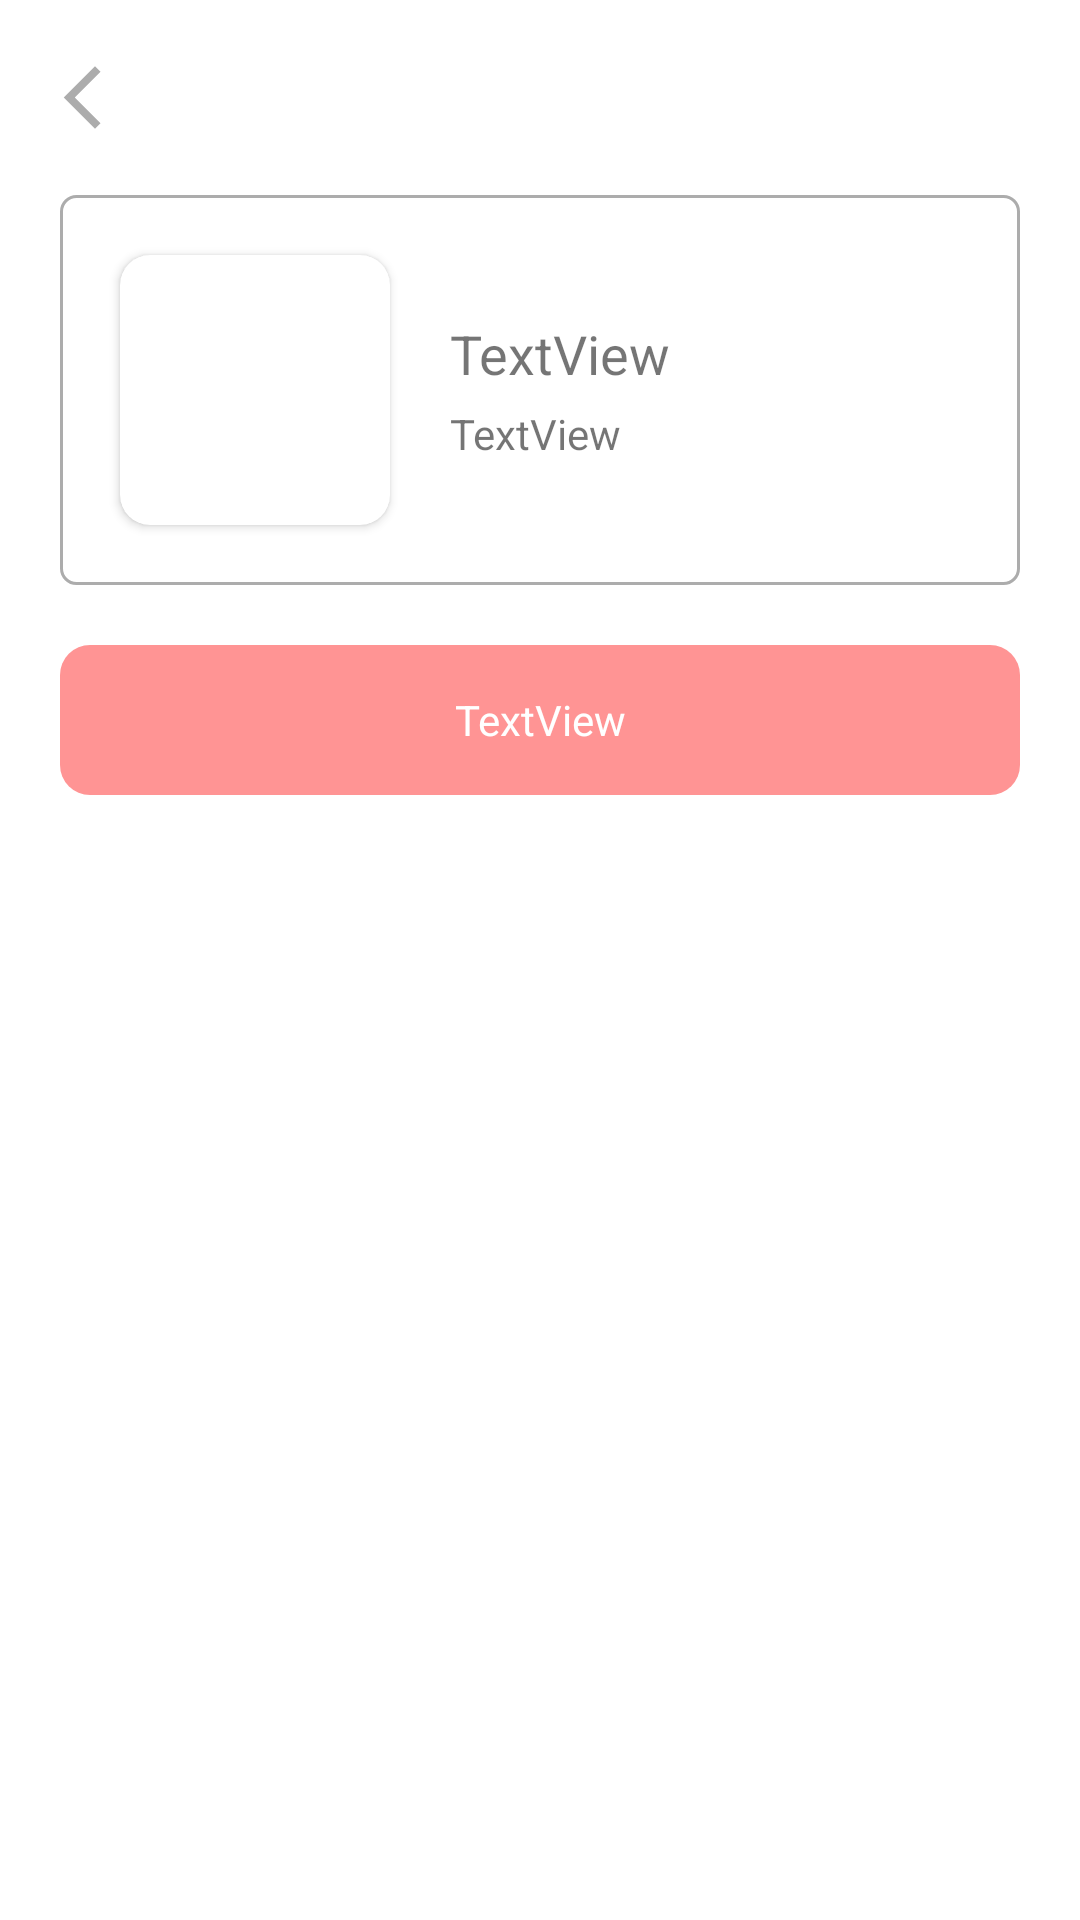

Icon bounding boxes for this 1080px×1920px phone screenshot, format region(x1, y1, x2, y2):
arrow back: region(64, 67, 100, 128)
